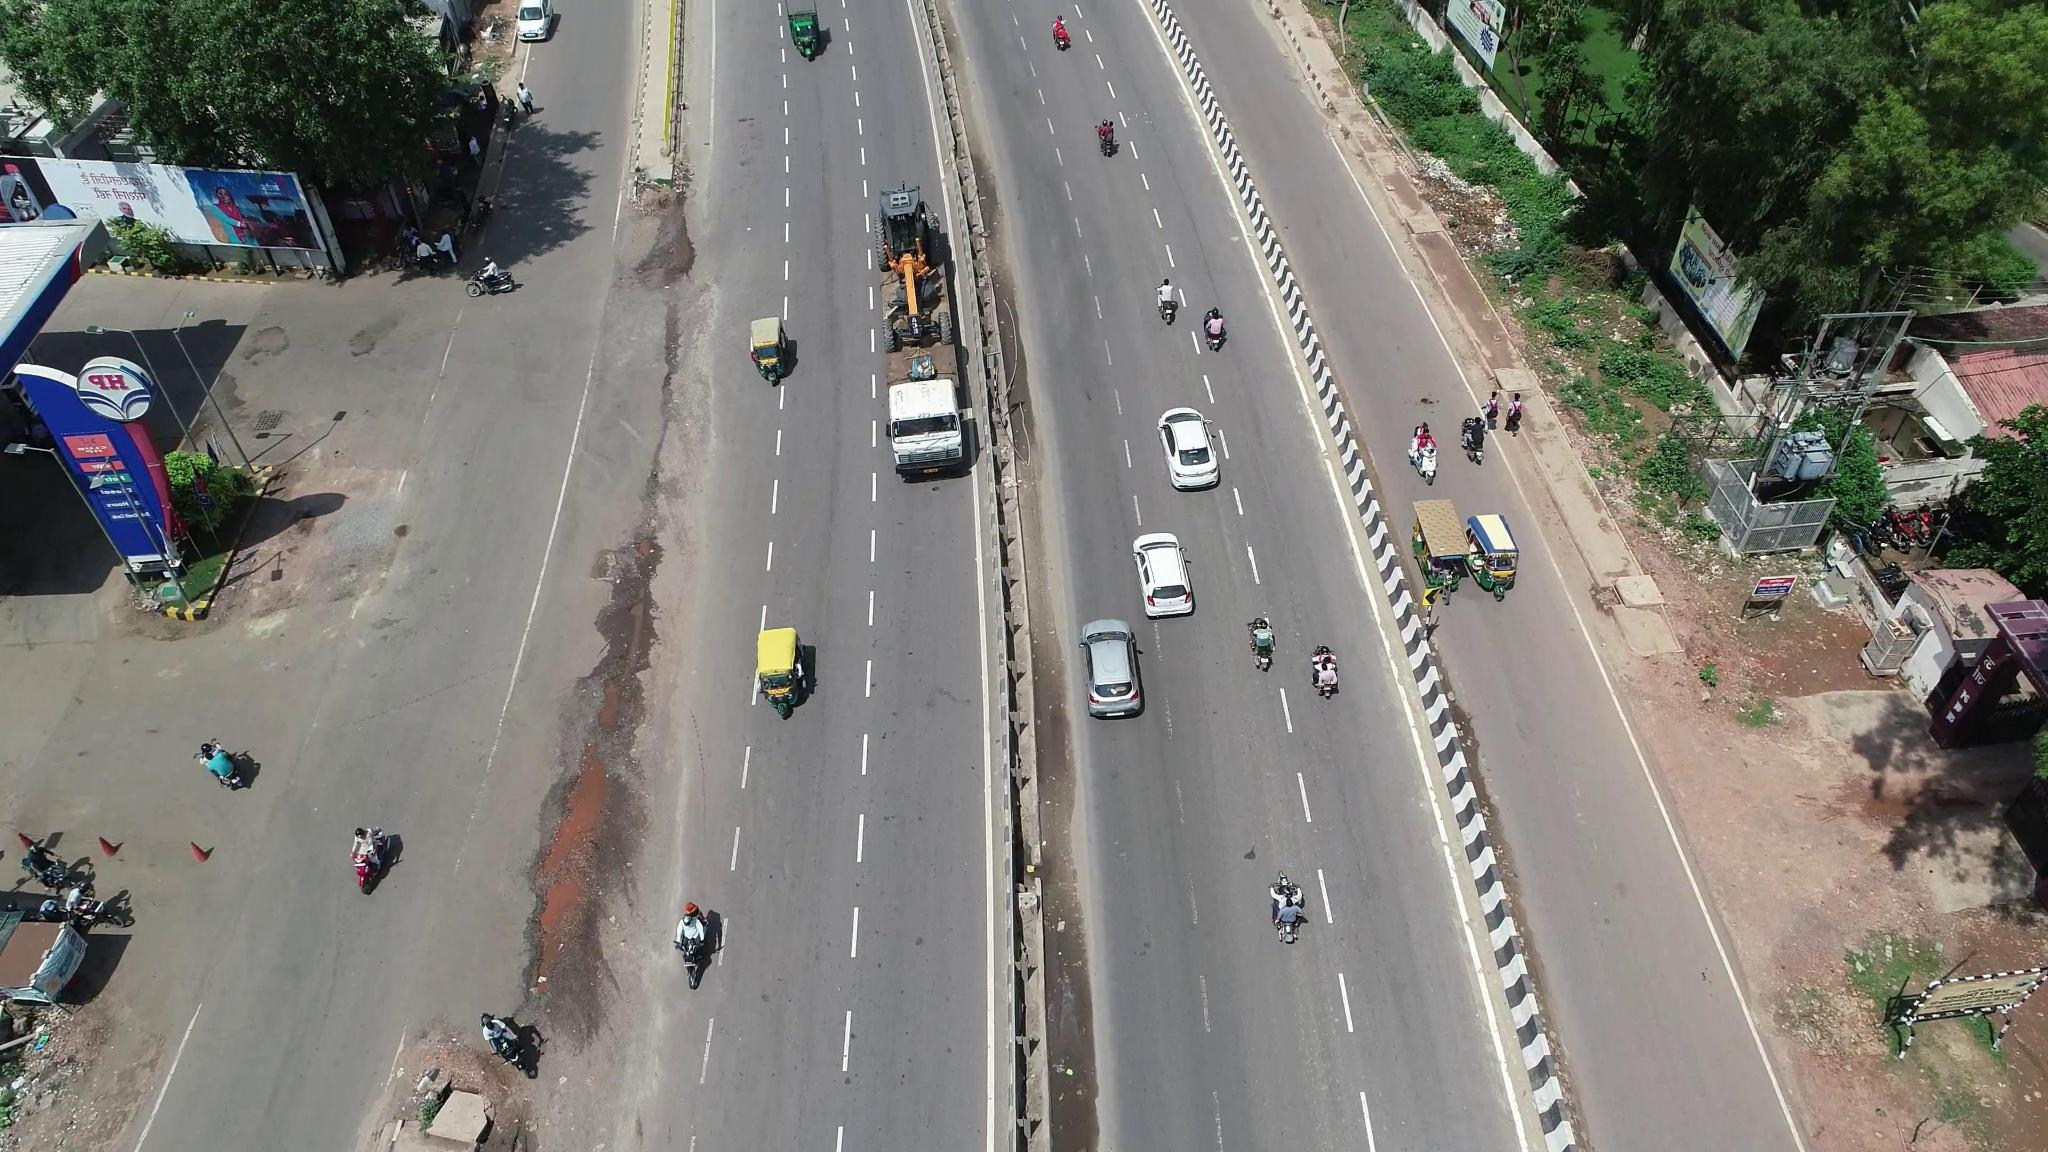Potholes: (617, 525, 684, 570)
